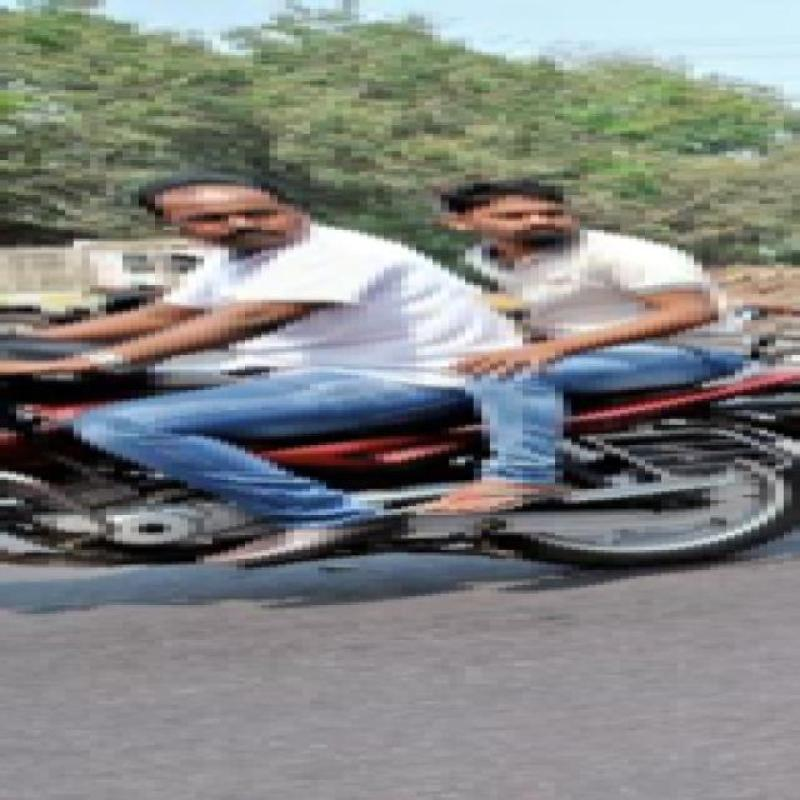nohelmet: (82, 173, 368, 253), (428, 172, 602, 243)
